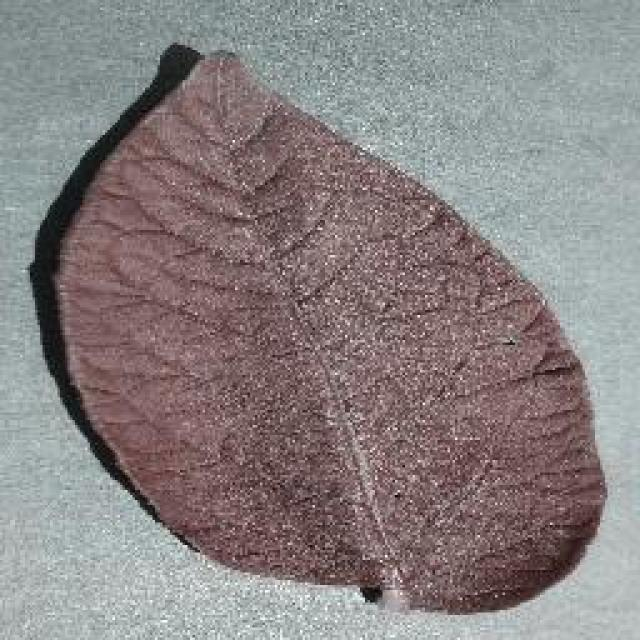Potato___healthy: (51, 48, 611, 619)
